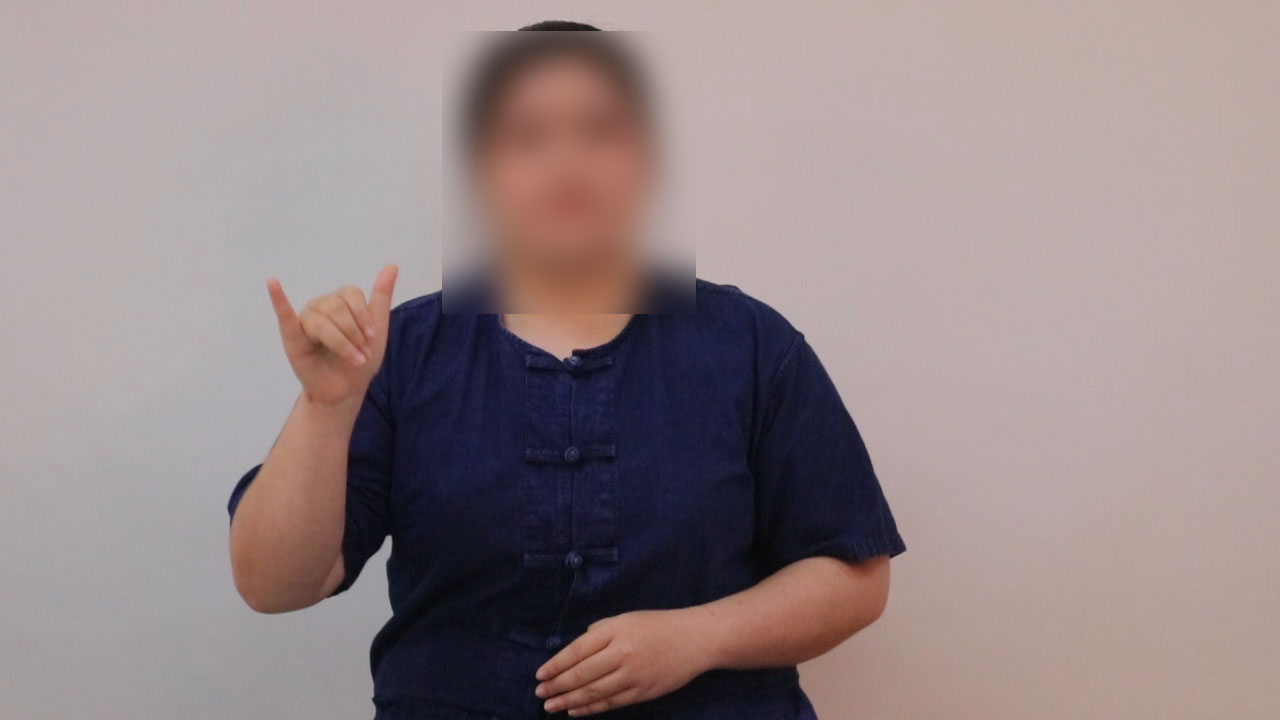yor: (251, 259, 418, 423)
